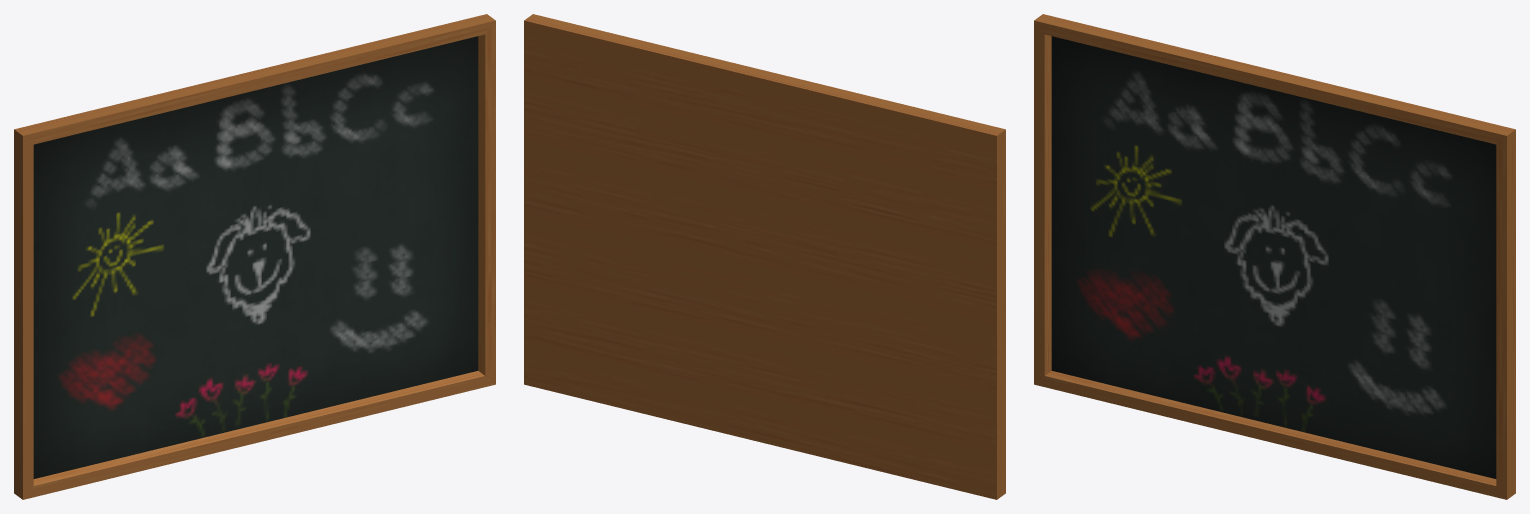
Rendered from Chalkboard_A.FBX.
3 views of the same model, side by side, from view 1: azimuth 30°, elevation 25°; view 2: azimuth 150°, elevation 25°; view 3: azimuth 330°, elevation 25° (orthographic).
Visible parts, largest first — view 1: Chalk_Board; view 2: Chalk_Board; view 3: Chalk_Board.
Part boxes in pixels (x1,y1,x2,y2): Chalk_Board: (14, 14, 495, 499); Chalk_Board: (524, 14, 1005, 499); Chalk_Board: (1034, 14, 1515, 499).
Size of the model in its own units: 143 by 105 by 4.7.
